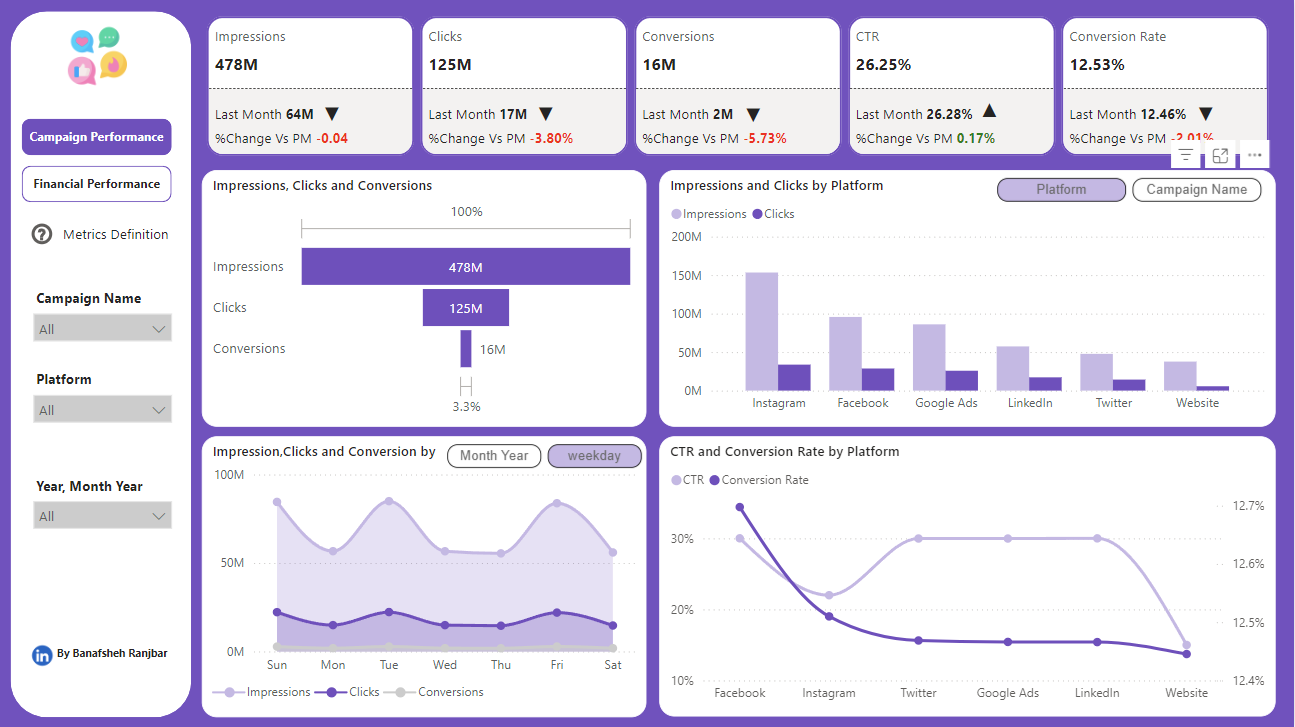

The page's visual inventory and layout, read from the dashboard file:
{"tool":"powerbi","page":{"name":"Campaign Performance","canvas":[1280,720],"ordinal":0},"visuals":[{"type":"clusteredColumnChart","fields":{"Category":["Fact-CP.Campaign Name"],"Y":["Measure-List.Impressions","Measure-List.Clicks"]},"box":[653.3,168.2,608.6,253.7],"z":0},{"type":"actionButton","title":"Metrics Definition","box":[23.3,210.9,41.7,40.5],"z":0,"group":"g1"},{"type":"textbox","box":[58.9,217,122.6,29.4],"z":1000,"group":"g1"},{"type":"areaChart","title":"Impression,Clicks and Conversion by","fields":{"Category":["DimDate.weekday"],"Y":["Measure-List.Impressions","Measure-List.Clicks","Measure-List.Conversions"]},"box":[201.1,431.1,439,277.3],"z":1000},{"type":"shape","box":[12.1,10.9,178.6,697.3],"z":2000},{"type":"image","box":[22.3,623,43.4,47.3],"z":3000},{"type":"image","box":[64.4,19.7,68.4,71],"z":4000},{"type":"pageNavigator","box":[23.7,117,148.5,82.8],"z":5000},{"type":"slicer","fields":{"Values":["Fact-CP.Campaign Name"]},"box":[24.1,279.9,156.8,80.8],"z":6000},{"type":"slicer","fields":{"Values":["Fact-CP.Platform"]},"box":[24.1,360.7,156.8,79.6],"z":7000},{"type":"slicer","fields":{"Values":["DimDate.Year","DimDate.Month Year"]},"box":[24.1,465.7,156.8,79.6],"z":8000},{"type":"textbox","box":[52.6,629.6,119.6,47.3],"z":9000},{"type":"cardVisual","fields":{"Data":["Measure-List.Impressions","Measure-List.Clicks","Measure-List.Conversions","Measure-List.CTR","Measure-List.Conversion Rate"]},"box":[201.1,10.5,1060.8,148.5],"z":10000},{"type":"card","fields":{"Values":["Measure-List.Icon Impression"]},"box":[314.2,98.6,32.9,26.3],"z":11000},{"type":"card","fields":{"Values":["Measure-List.Icon CTR"]},"box":[963.5,94.6,32.9,26.3],"z":12000},{"type":"card","fields":{"Values":["Measure-List.Icon Clicks"]},"box":[524.5,98.6,32.9,26.3],"z":13000},{"type":"card","fields":{"Values":["Measure-List.Icon Conversion"]},"box":[729.5,98.6,32.9,25],"z":14000},{"type":"card","fields":{"Values":["Measure-List.Icon Conversion Rate"]},"box":[1176.4,98.6,32.9,26.3],"z":15000},{"type":"funnel","fields":{"Y":["Measure-List.Impressions","Measure-List.Clicks","Measure-List.Conversions"]},"box":[201.1,168.2,439,253.7],"z":16000},{"type":"ChicletSlicer1448559807354","fields":{"Category":["Week Day-Month Year.Week Day-Month Year"]},"box":[435.5,430.7,208.7,43.4],"z":17000},{"type":"ChicletSlicer1448559807354","fields":{"Category":["Platform-Campaign.Platform-Campaign"]},"box":[979.6,167.7,277.5,43.4],"z":18000},{"type":"lineChart","fields":{"Category":["Fact-CP.Campaign Name"],"Y":["Measure-List.CTR"],"Y2":["Measure-List.Conversion Rate"]},"box":[653,431,609,277],"z":19000},{"type":"group","id":"g1","title":"Group 1","box":[23.3,210.9,158.2,40.5],"z":20000}]}

Visuals, with their boxes in screenshot pixels (x1, y1, x2, y2), scaled from the page's 1280x720 canvas onto the 1295x727 screenshot:
clusteredColumnChart - Fact-CP.Campaign Name x Measure-List.Impressions: {"x1": 661, "y1": 170, "x2": 1277, "y2": 426}
"Metrics Definition" actionButton: {"x1": 24, "y1": 213, "x2": 66, "y2": 254}
textbox: {"x1": 60, "y1": 219, "x2": 184, "y2": 249}
"Impression,Clicks and Conversion by" areaChart: {"x1": 203, "y1": 435, "x2": 648, "y2": 715}
shape: {"x1": 12, "y1": 11, "x2": 193, "y2": 715}
image: {"x1": 23, "y1": 629, "x2": 66, "y2": 677}
image: {"x1": 65, "y1": 20, "x2": 134, "y2": 92}
pageNavigator: {"x1": 24, "y1": 118, "x2": 174, "y2": 202}
slicer - Fact-CP.Campaign Name: {"x1": 24, "y1": 283, "x2": 183, "y2": 364}
slicer - Fact-CP.Platform: {"x1": 24, "y1": 364, "x2": 183, "y2": 445}
slicer - DimDate.Year x DimDate.Month Year: {"x1": 24, "y1": 470, "x2": 183, "y2": 551}
textbox: {"x1": 53, "y1": 636, "x2": 174, "y2": 683}
cardVisual - Measure-List.Impressions x Measure-List.Clicks: {"x1": 203, "y1": 11, "x2": 1277, "y2": 161}
card - Measure-List.Icon Impression: {"x1": 318, "y1": 100, "x2": 351, "y2": 126}
card - Measure-List.Icon CTR: {"x1": 975, "y1": 96, "x2": 1008, "y2": 122}
card - Measure-List.Icon Clicks: {"x1": 531, "y1": 100, "x2": 564, "y2": 126}
card - Measure-List.Icon Conversion: {"x1": 738, "y1": 100, "x2": 771, "y2": 125}
card - Measure-List.Icon Conversion Rate: {"x1": 1190, "y1": 100, "x2": 1223, "y2": 126}
funnel - Measure-List.Impressions x Measure-List.Clicks: {"x1": 203, "y1": 170, "x2": 648, "y2": 426}
ChicletSlicer1448559807354 - Week Day-Month Year.Week Day-Month Year: {"x1": 441, "y1": 435, "x2": 652, "y2": 479}
ChicletSlicer1448559807354 - Platform-Campaign.Platform-Campaign: {"x1": 991, "y1": 169, "x2": 1272, "y2": 213}
lineChart - Fact-CP.Campaign Name x Measure-List.CTR: {"x1": 661, "y1": 435, "x2": 1277, "y2": 715}
"Group 1" group: {"x1": 24, "y1": 213, "x2": 184, "y2": 254}
